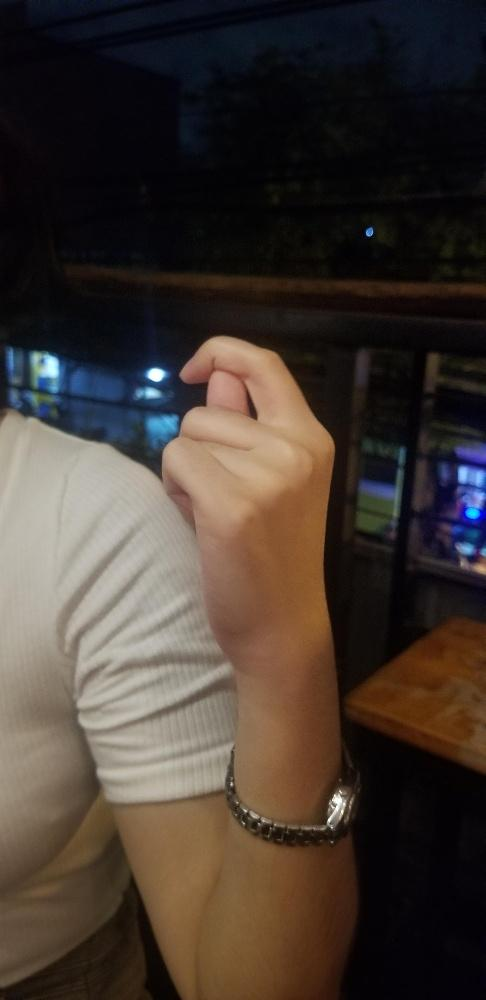t: (158, 334, 337, 674)
